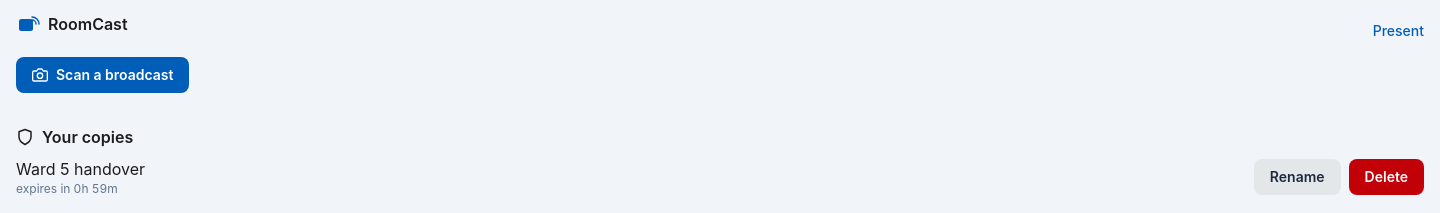
ReaderApp copy management › cancelling the delete confirmation leaves the copy in place
Expected: the button "Ward 5 handover" is shown, [16, 157, 1246, 181]
Click the button "Delete" at (1386, 177), box [1349, 159, 1424, 195]
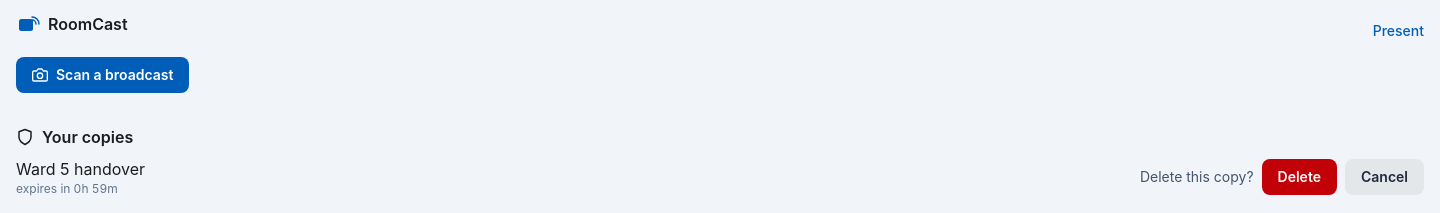
Result: the text "Delete this copy?" is shown at [1140, 167, 1254, 187]
Click the button "Cancel" at (1384, 177), box [1345, 159, 1424, 195]
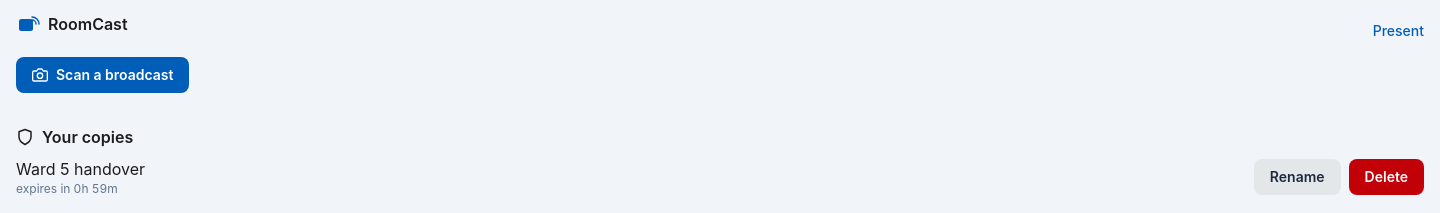
Expected: the button "Ward 5 handover" is shown, [16, 157, 1246, 181]
Result: the text "Delete this copy" is gone
